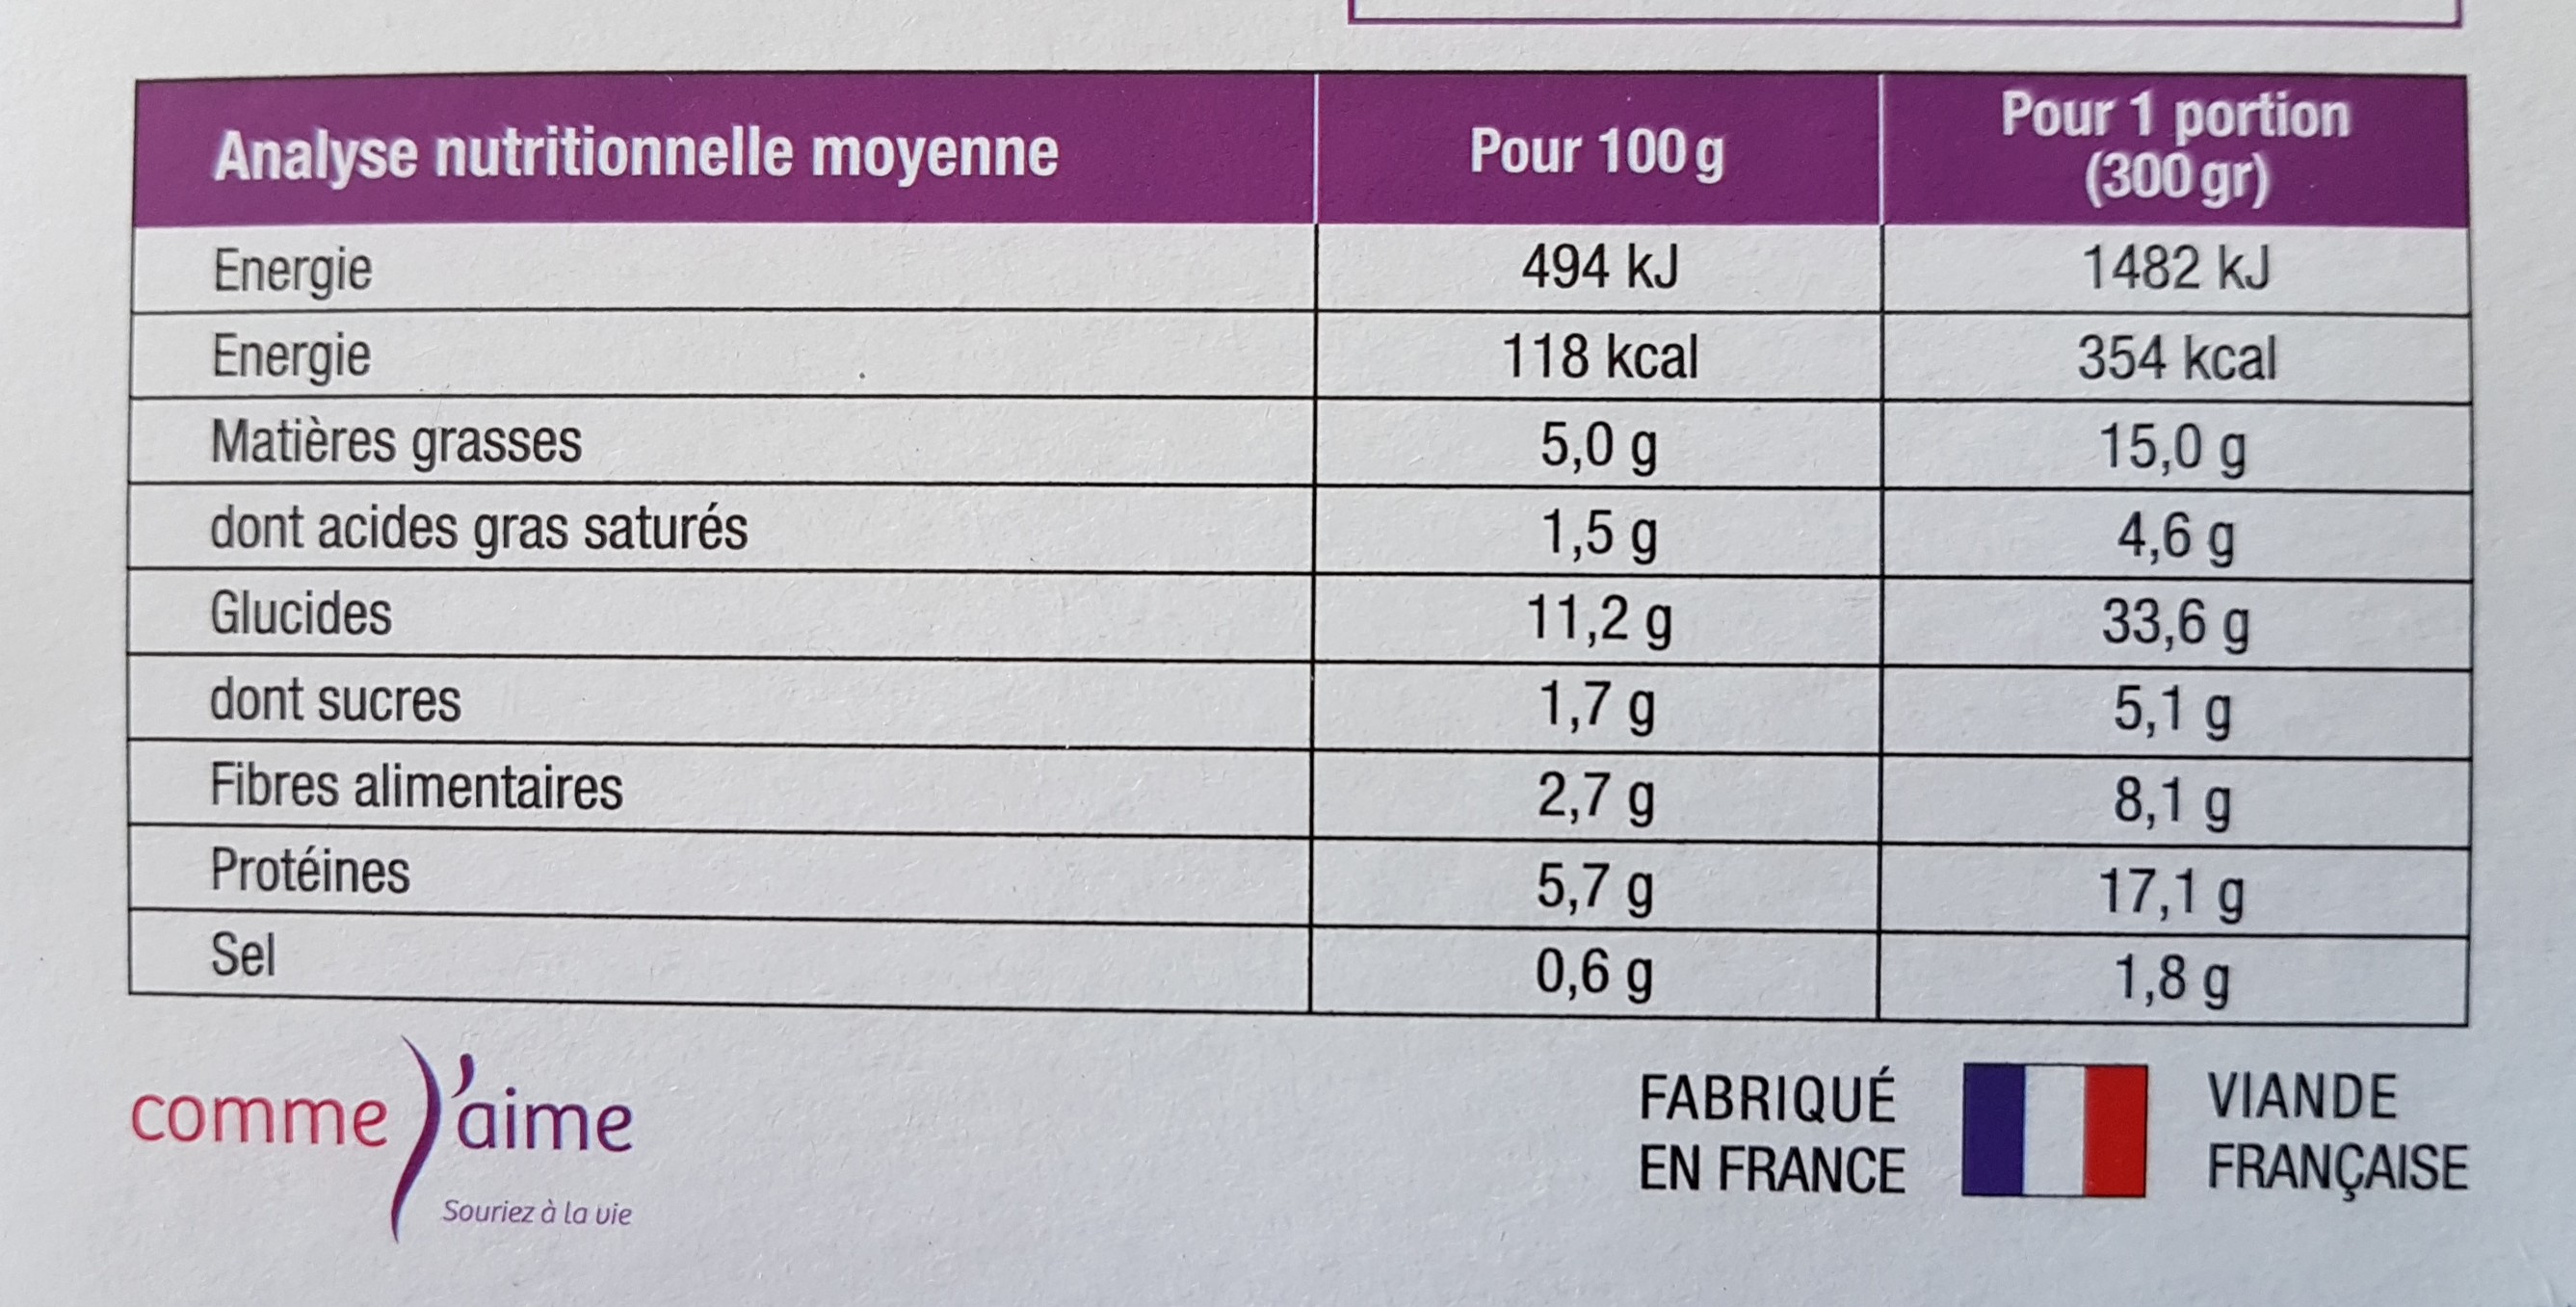column: (210, 75, 1062, 989), (1999, 75, 2349, 1015), (1466, 72, 1727, 1007)
table: (135, 78, 2469, 1017)
